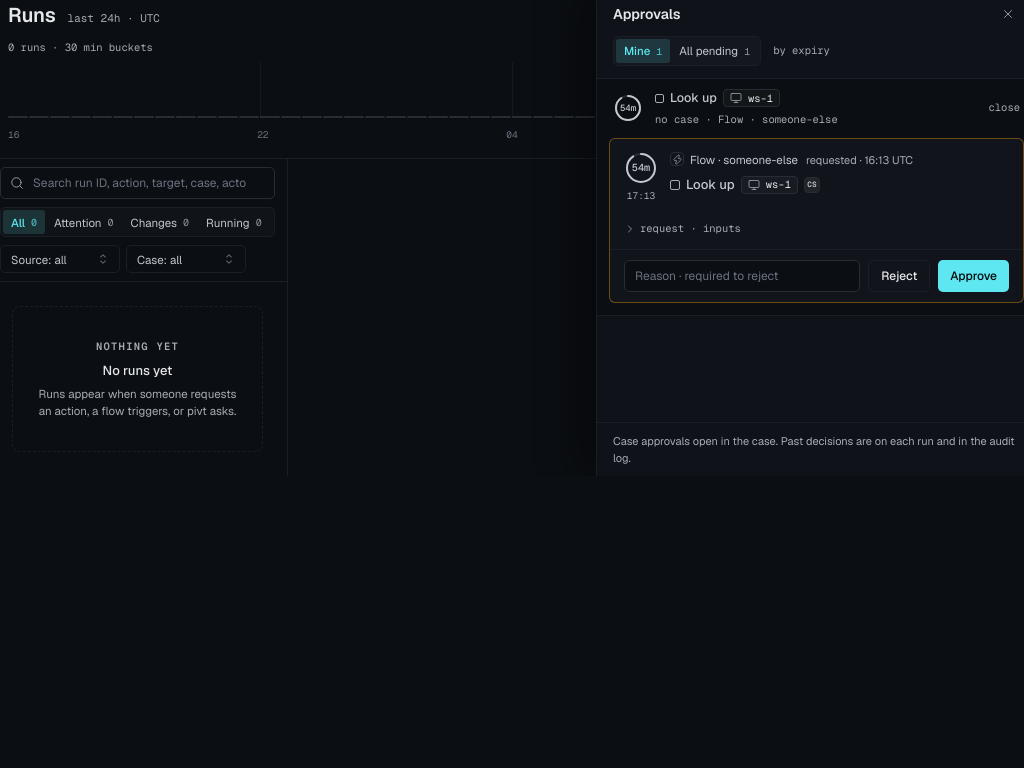
Test case: Approvals › NAN-4556: 409 names who decided first from the refetched approval
The image size is (1024, 768).
In the field named "Decision reason": (742, 276) [624,260,860,292], type "not needed"
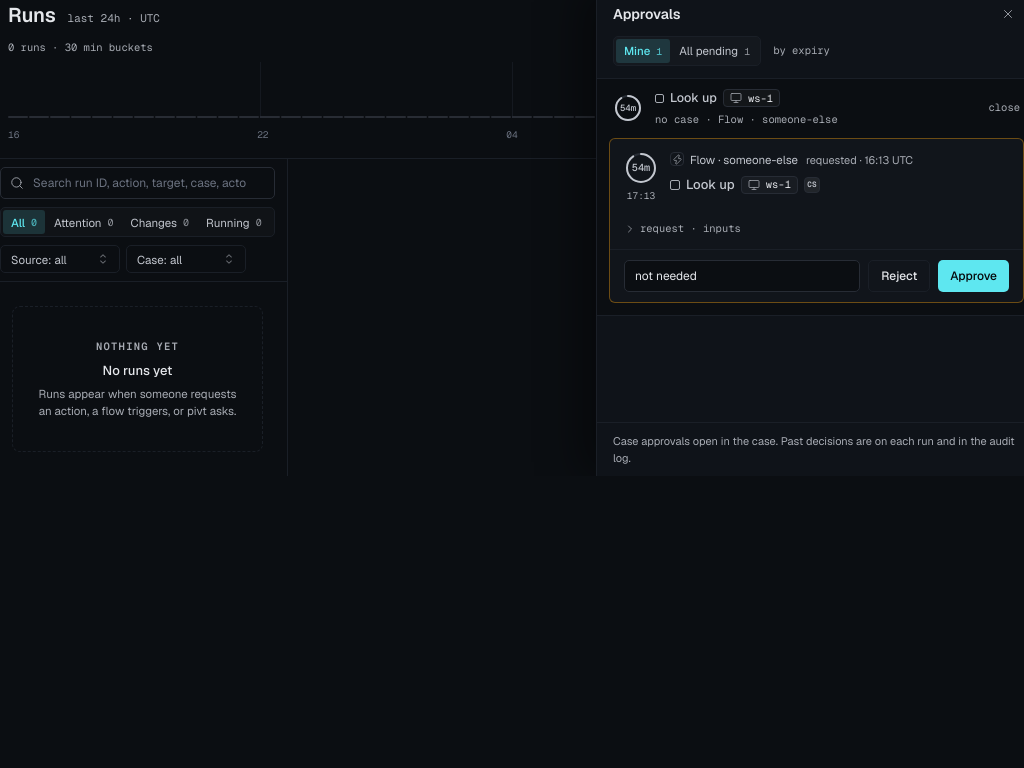
Click the button "Reject": (899, 276) [868,260,930,292]
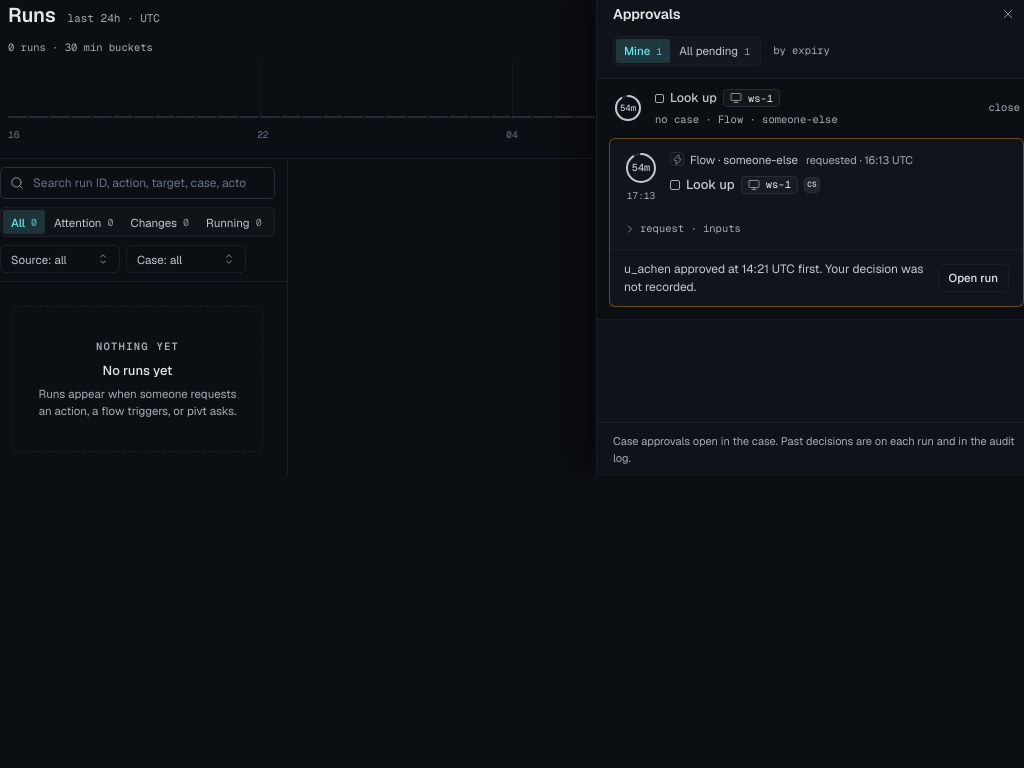
Expected: the text "u_achen approved at 14:21 UTC first. Your decision was not recorded." is shown, [624,260,930,296]
